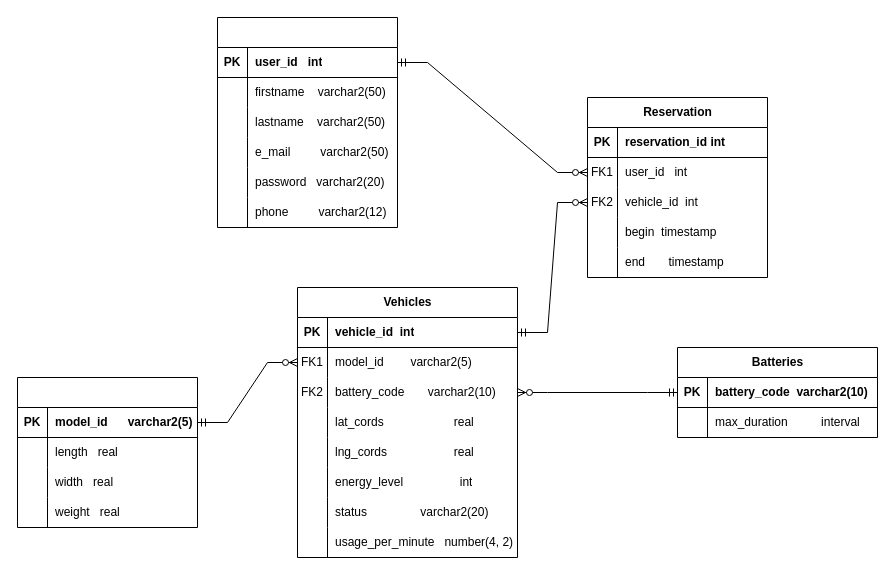
The diagram is 895 pixels wide and 575 high, and some of its shapes have lost their labels. The box of each missing label's shape, as (x1, y1, x2, y2) in pixels:
Models: (16, 376, 198, 528)
Users: (216, 16, 398, 228)
